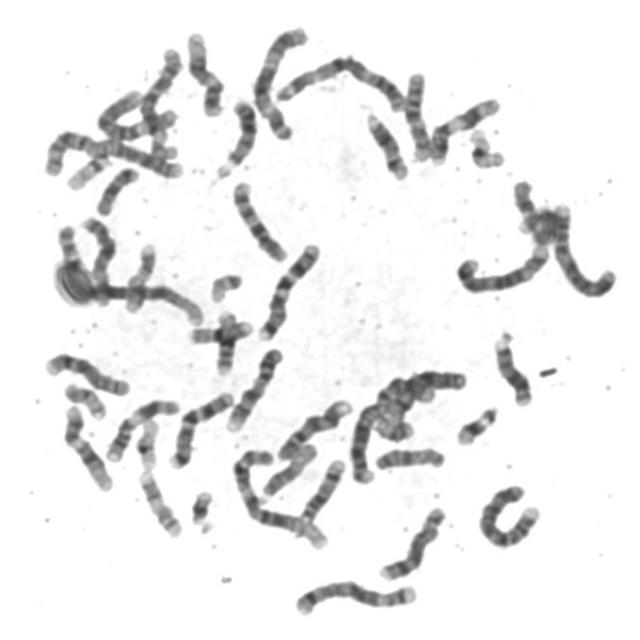A1: (226, 441, 332, 551), (56, 275, 208, 327)
A2: (344, 374, 441, 487), (36, 124, 186, 180)
A3: (269, 48, 411, 114), (246, 18, 313, 141)
B4: (546, 196, 621, 300), (473, 478, 545, 550)
B5: (450, 237, 555, 294), (290, 574, 422, 618)
C10: (226, 173, 292, 264), (399, 64, 435, 164)
C11: (424, 90, 505, 166), (101, 392, 183, 465)
C12: (57, 398, 117, 493), (181, 24, 229, 119)
C6: (135, 41, 187, 162), (94, 80, 181, 144)
C7: (252, 235, 324, 342), (163, 385, 237, 471)
C8: (373, 500, 449, 584), (38, 345, 134, 398)
C9: (220, 342, 286, 434), (271, 393, 355, 463)
D13: (210, 91, 260, 179), (488, 326, 536, 408)
D14: (360, 105, 413, 182), (294, 452, 348, 525)
D15: (256, 436, 322, 501), (370, 440, 448, 473)
E16: (208, 303, 240, 377), (184, 314, 256, 346)
E17: (133, 464, 185, 540), (118, 236, 161, 316)
E18: (508, 173, 562, 246), (90, 160, 142, 217)
F19: (463, 122, 508, 170), (130, 412, 162, 471)
F20: (58, 376, 110, 420), (371, 415, 417, 445)
G21: (450, 398, 502, 448), (185, 483, 219, 533)
G22: (59, 148, 114, 192), (204, 267, 246, 304)
X: (382, 368, 468, 430), (76, 210, 118, 308)
